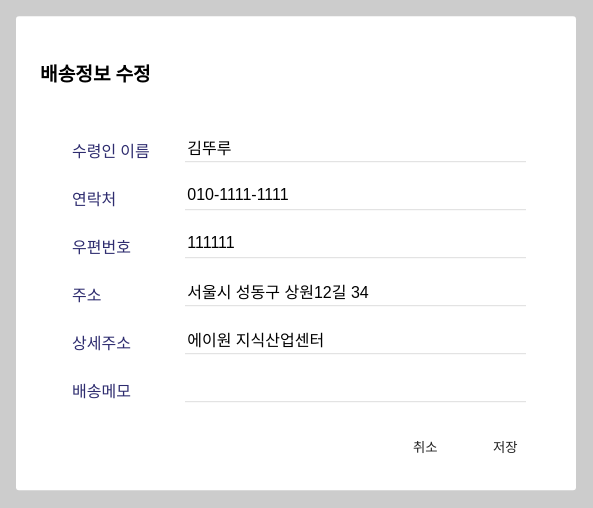
EditOrderModal › 배송정보 수정 › 수령인 연락처 › 연락처를 입력하지 않았을 경우 › 전화번호를 입력하세요 에러메시지가 보인다
(page scrolled)
Clear the field labelled "연락처": [356, 198] box 185,186 -> 526,210
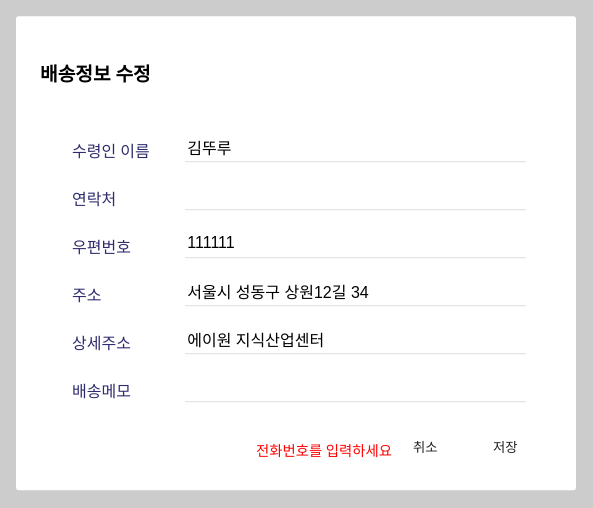
Now the text "전화번호를 입력하세요" is shown, box 256,443 -> 392,459
